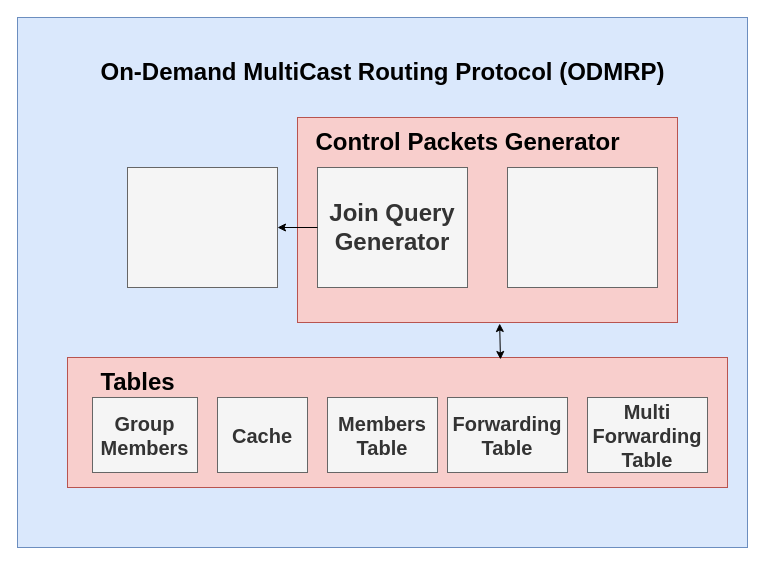
Some shapes in this 765 by 565 pixel diagram are drawn without their labels. Each missing label, with the centre of its shape:
"Flooder" goes at [202,227].
"Join Reply Generator" goes at [582,227].
